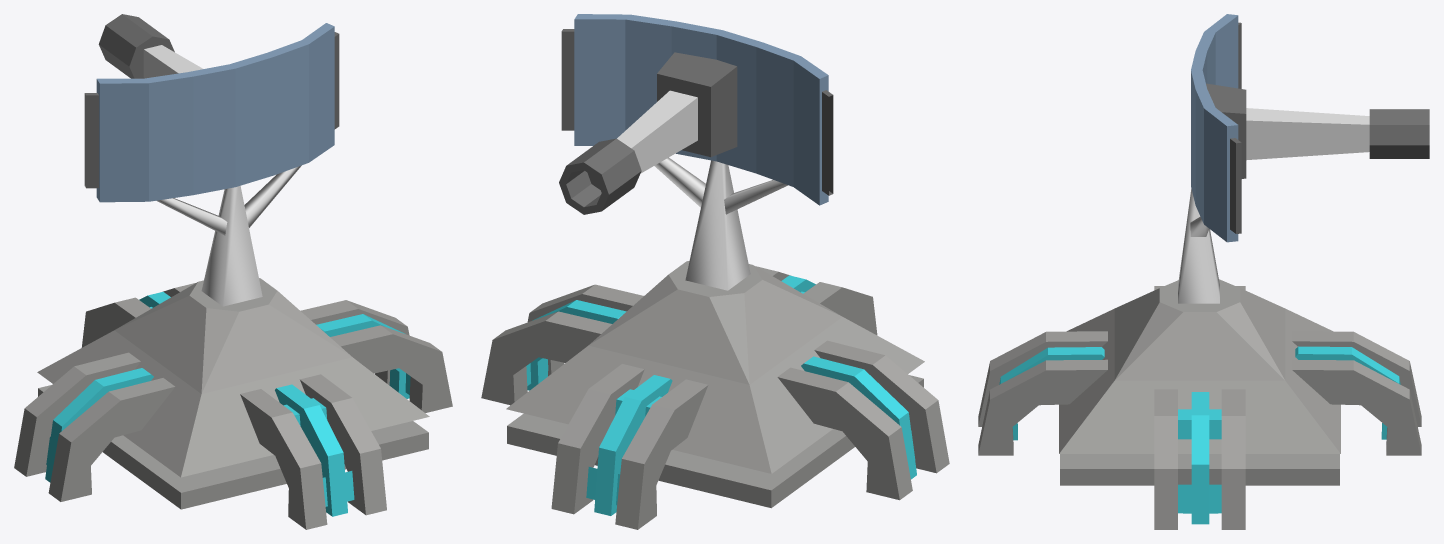
The model's file is TorreRadarAVC2.fbx.
3 views of the same model, side by side, from view 1: azimuth 30°, elevation 25°; view 2: azimuth 150°, elevation 25°; view 3: azimuth 270°, elevation 25° (orthographic). The views are drawn at different scales.
Visible parts, largest first — view 1: Base, TTorre; view 2: Base, TTorre; view 3: Base, TTorre.
Boxes of the visible parts, box(x1,y1,x2,y2) form: Base: box(14, 278, 452, 529); TTorre: box(84, 14, 339, 306); Base: box(481, 261, 949, 529); TTorre: box(559, 14, 833, 290); Base: box(978, 279, 1421, 529); TTorre: box(1178, 14, 1429, 303).
Size of the model in its own units: 5.59 by 5.08 by 5.69.
